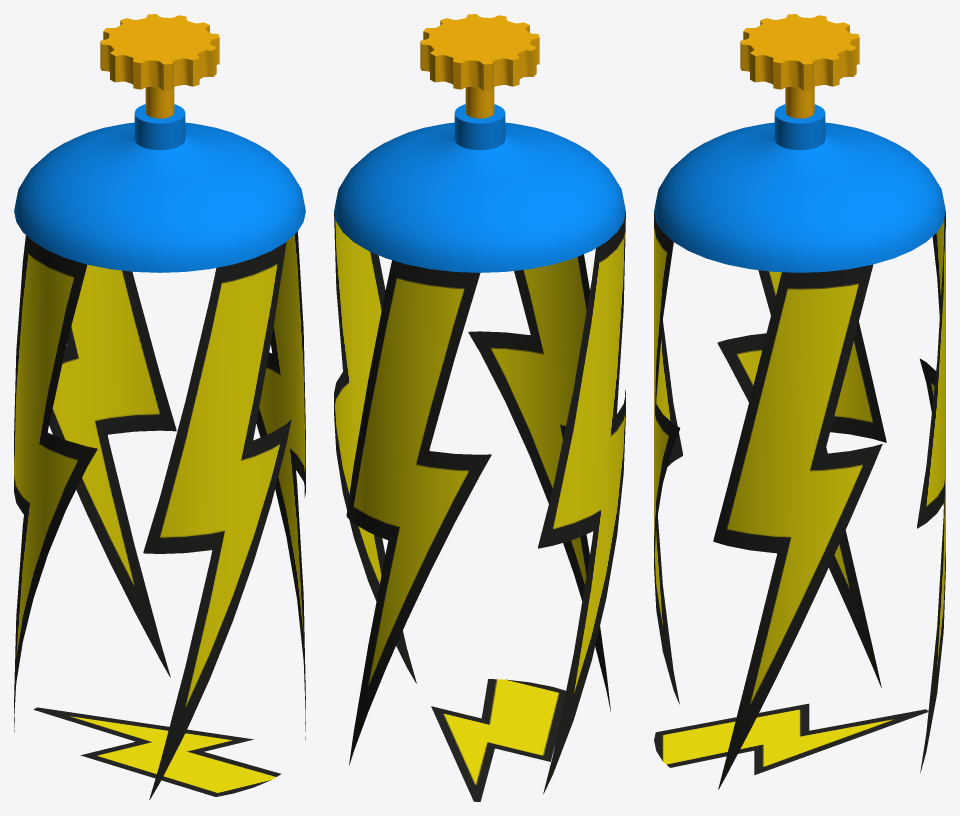
File: Nitro.fbx
The picture shows the model from 3 angles, left to right: view 1: azimuth 30°, elevation 25°; view 2: azimuth 150°, elevation 25°; view 3: azimuth 270°, elevation 25°; orthographic projection.
Parts seen in each view (by area): view 1: Zylinder_2, Kugel, Extrudieren_1, Zylinder; view 2: Zylinder_2, Kugel, Extrudieren_1, Zylinder; view 3: Zylinder_2, Kugel, Extrudieren_1, Zylinder.
Part boxes in pixels (x1,y1,x2,y2): Zylinder_2: (14,231,305,799); Kugel: (14,104,305,272); Extrudieren_1: (100,14,219,90); Zylinder: (145,87,174,118); Zylinder_2: (334,212,625,801); Kugel: (334,104,625,272); Extrudieren_1: (420,14,539,90); Zylinder: (465,87,494,118); Zylinder_2: (654,212,945,789); Kugel: (654,104,945,272); Extrudieren_1: (740,14,859,90); Zylinder: (785,87,814,118).
Size of the model in its own units: 100 by 265 by 100.
3 materials, 1 textured.
